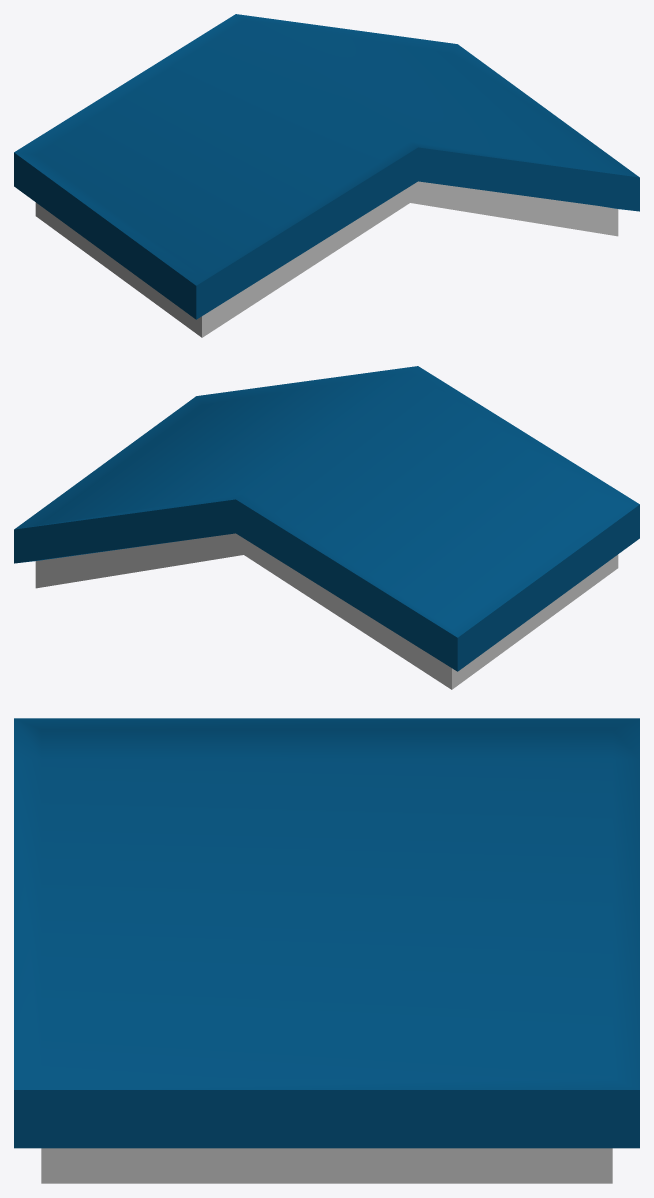
File: Floor Book 2.fbx
The picture shows the model from 3 angles, top to bottom: view 1: azimuth 30°, elevation 25°; view 2: azimuth 150°, elevation 25°; view 3: azimuth 270°, elevation 25°; orthographic projection. The views are drawn at different scales.
Parts seen in each view (by area): view 1: pCube1; view 2: pCube1; view 3: pCube1.
Boxes of the visible parts, x1,y1,x2,y2 form: pCube1: [14, 14, 639, 337]; pCube1: [14, 366, 639, 689]; pCube1: [14, 718, 639, 1183].
Size of the model in its own units: 3.22 by 1.01 by 2.29.
